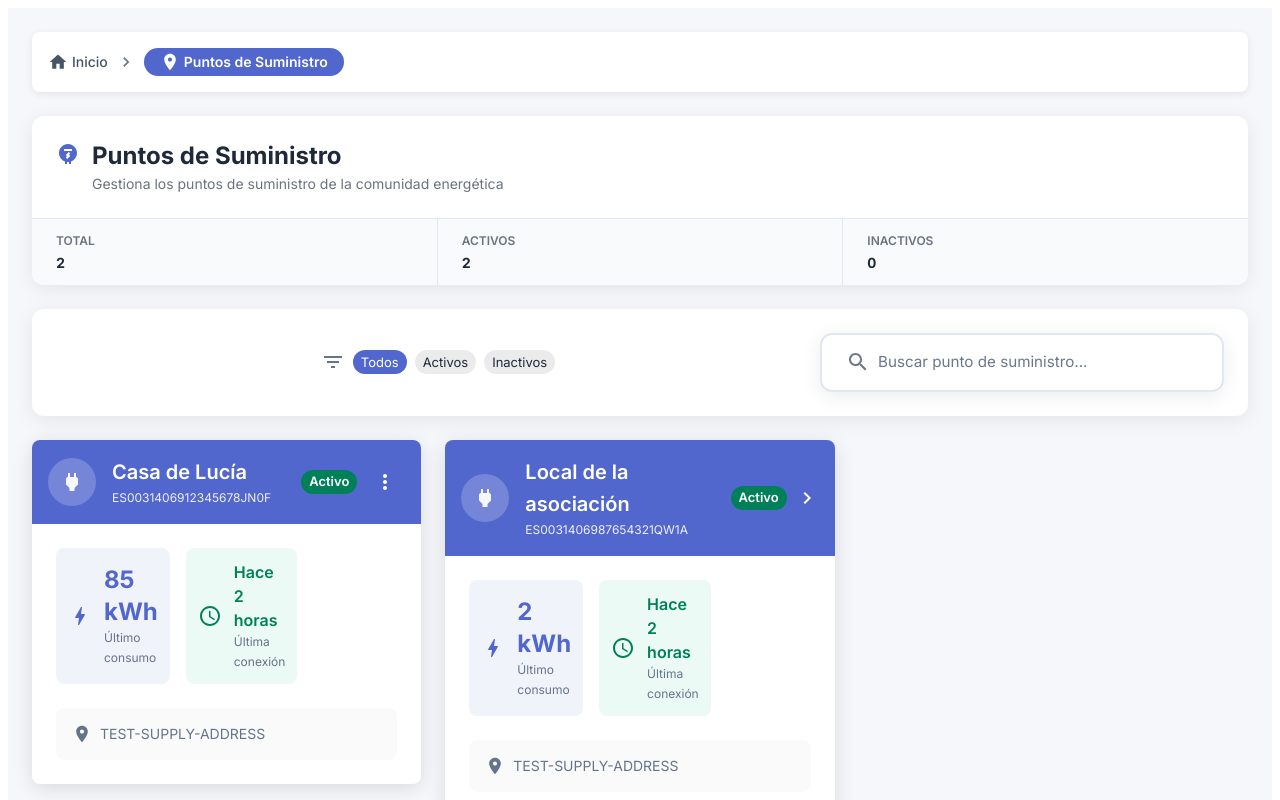
Test: deleting a supply from its card menu › UI-SUP-004 a 404 says the supply no longer exists, and refreshes the list
Expected: the heading "Casa de Lucía" is shown, [112,460,247,484]
What coordinates should you click on to do the following:
click the button named "Más acciones para Casa de Lucía"
I would click on:
 (385, 482)
Its box is [365,462,405,502].
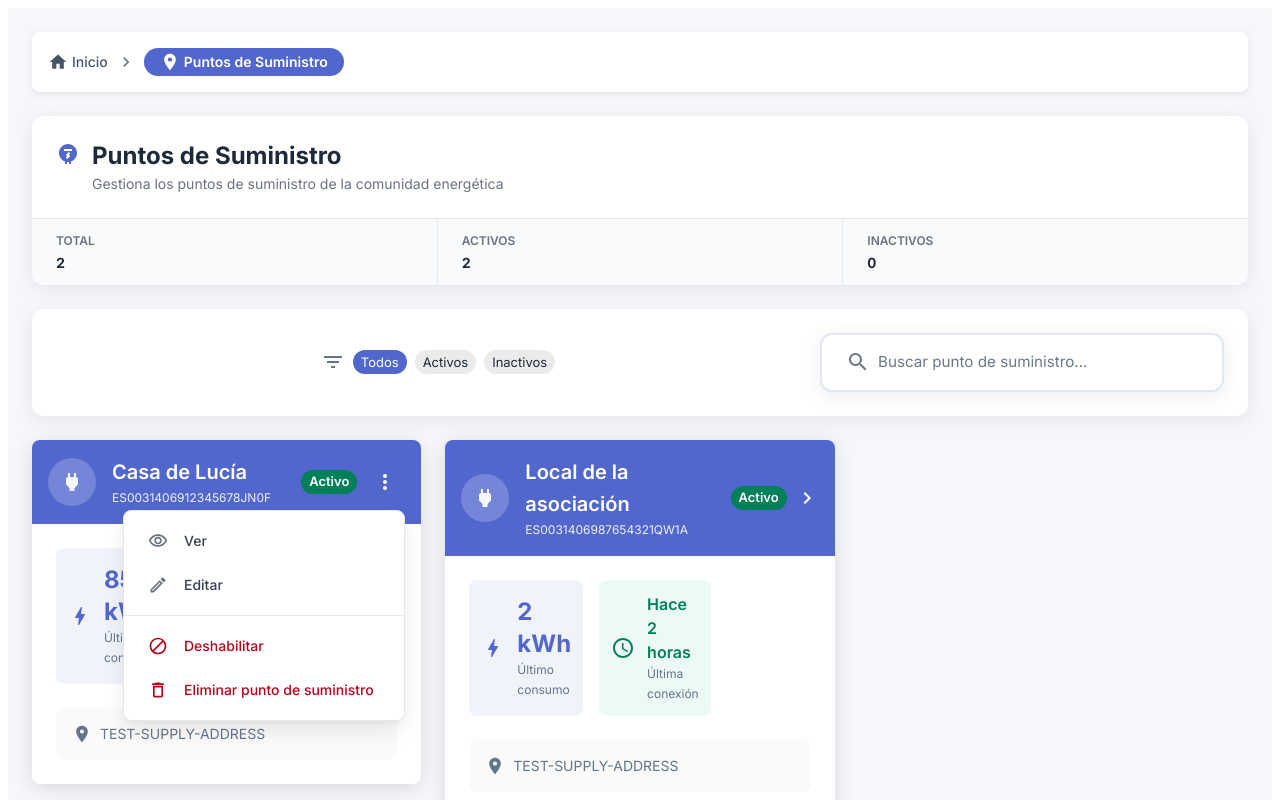
What coordinates should you click on to do the following:
click the menu item "Eliminar punto de suministro"
I would click on:
 (261, 690)
Its box is [148,680,374,700].
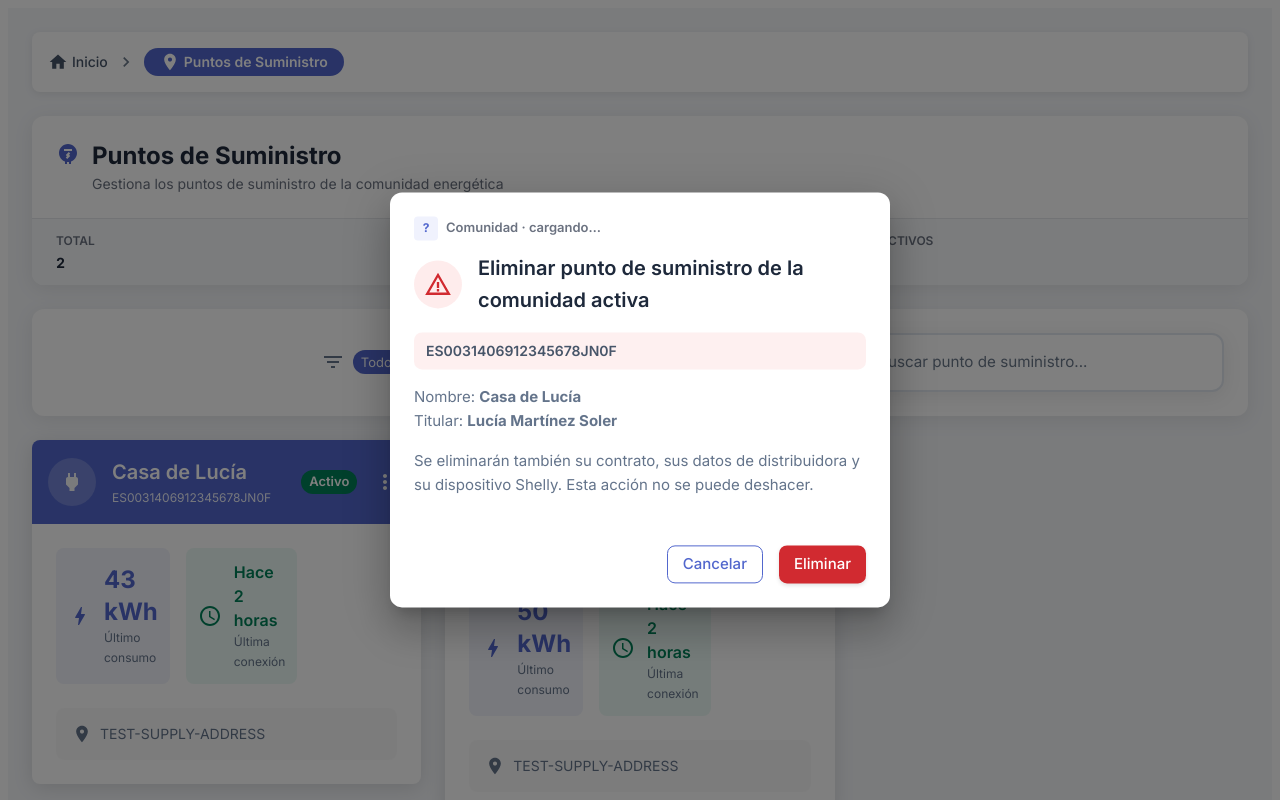
What coordinates should you click on to do the following:
click the button "Eliminar"
I would click on:
 (822, 565)
Its box is [779,545,866,584].
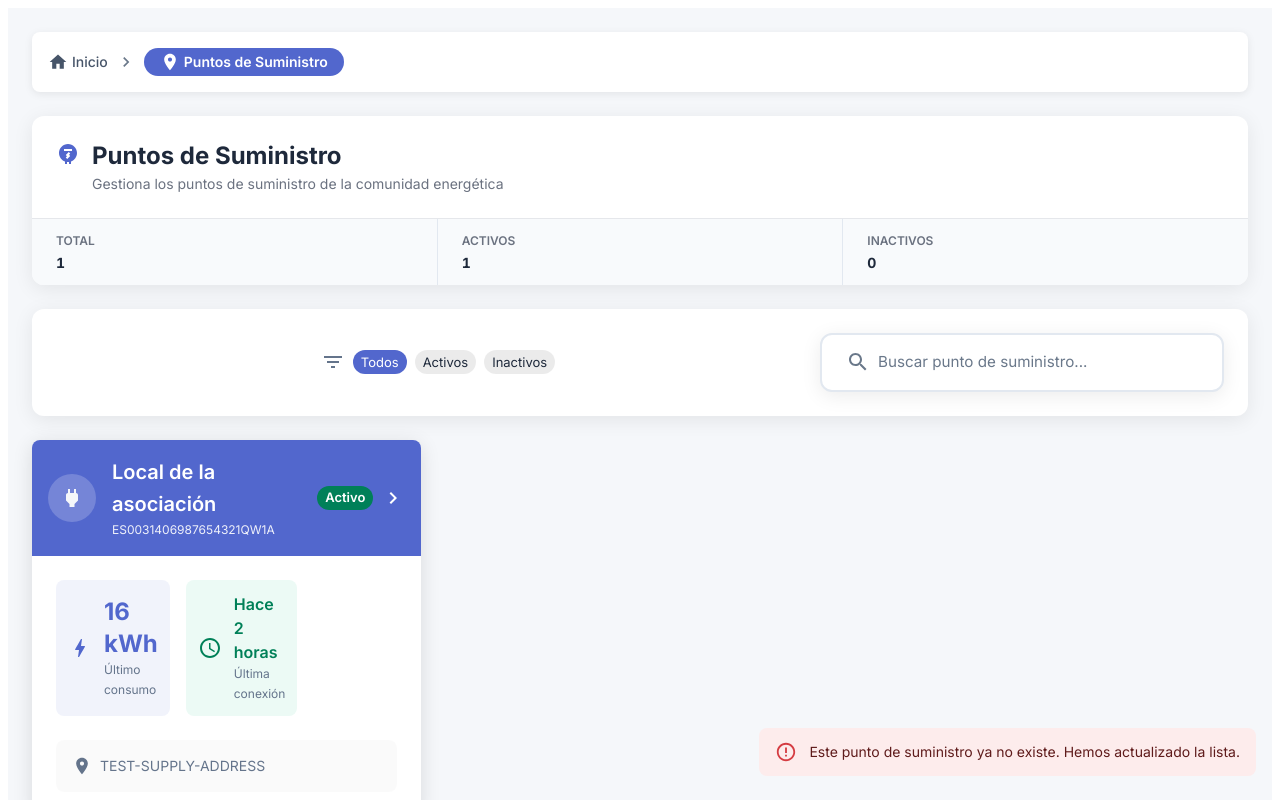
Expected: the text "Este punto de suministro ya no existe. Hemos actualizado la lista." is shown, [809,743,1240,760]
Expected: the heading "Casa de Lucía" is gone
